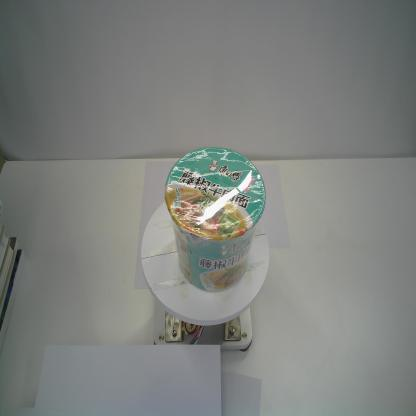Instant Noodles: (165, 148, 266, 294)
